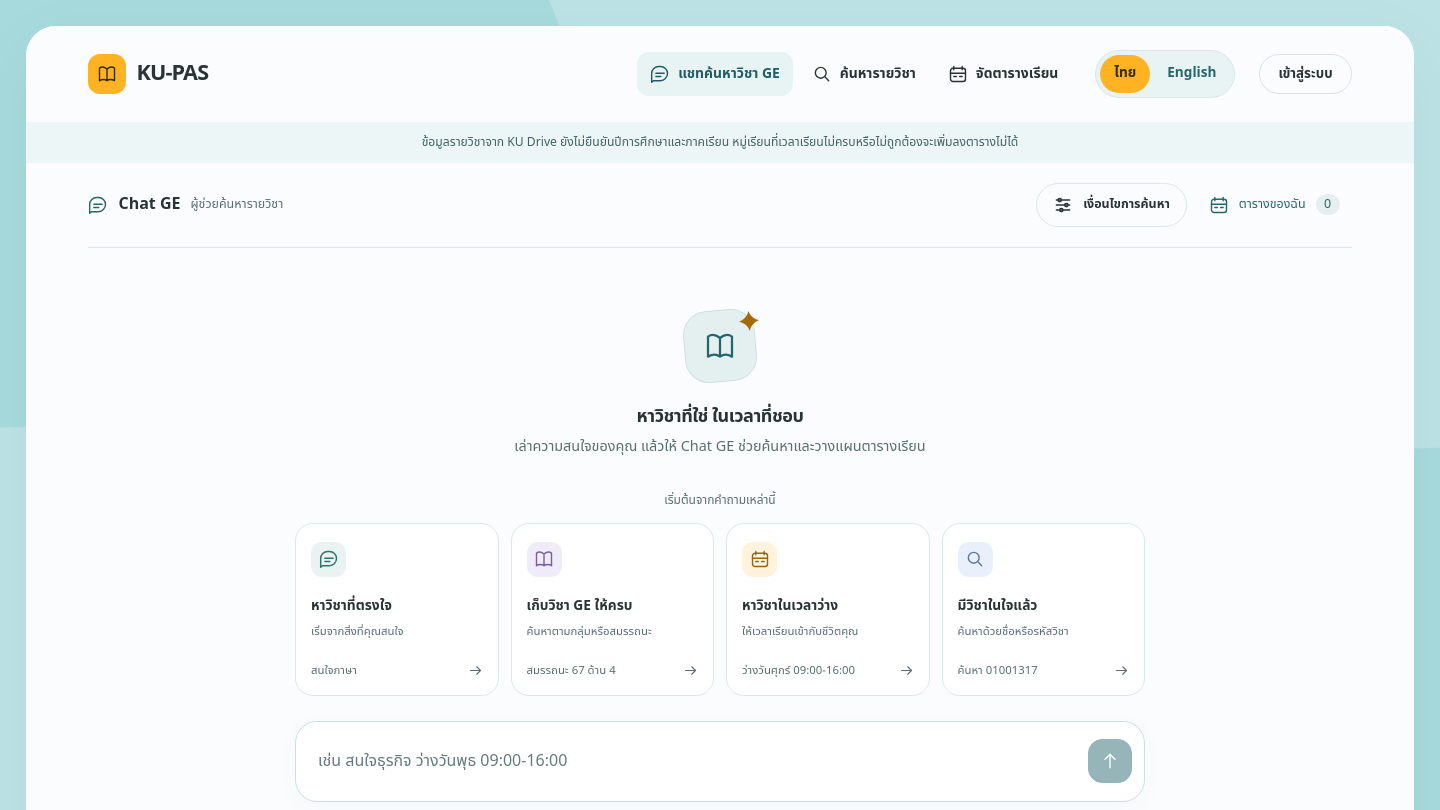
Test case: keeps the chat draft after an API error so the user can retry
Type "สนใจภาษา" into the field named "ถามเรื่องรายวิชา GE" at (694, 761), box [308, 734, 1080, 789]
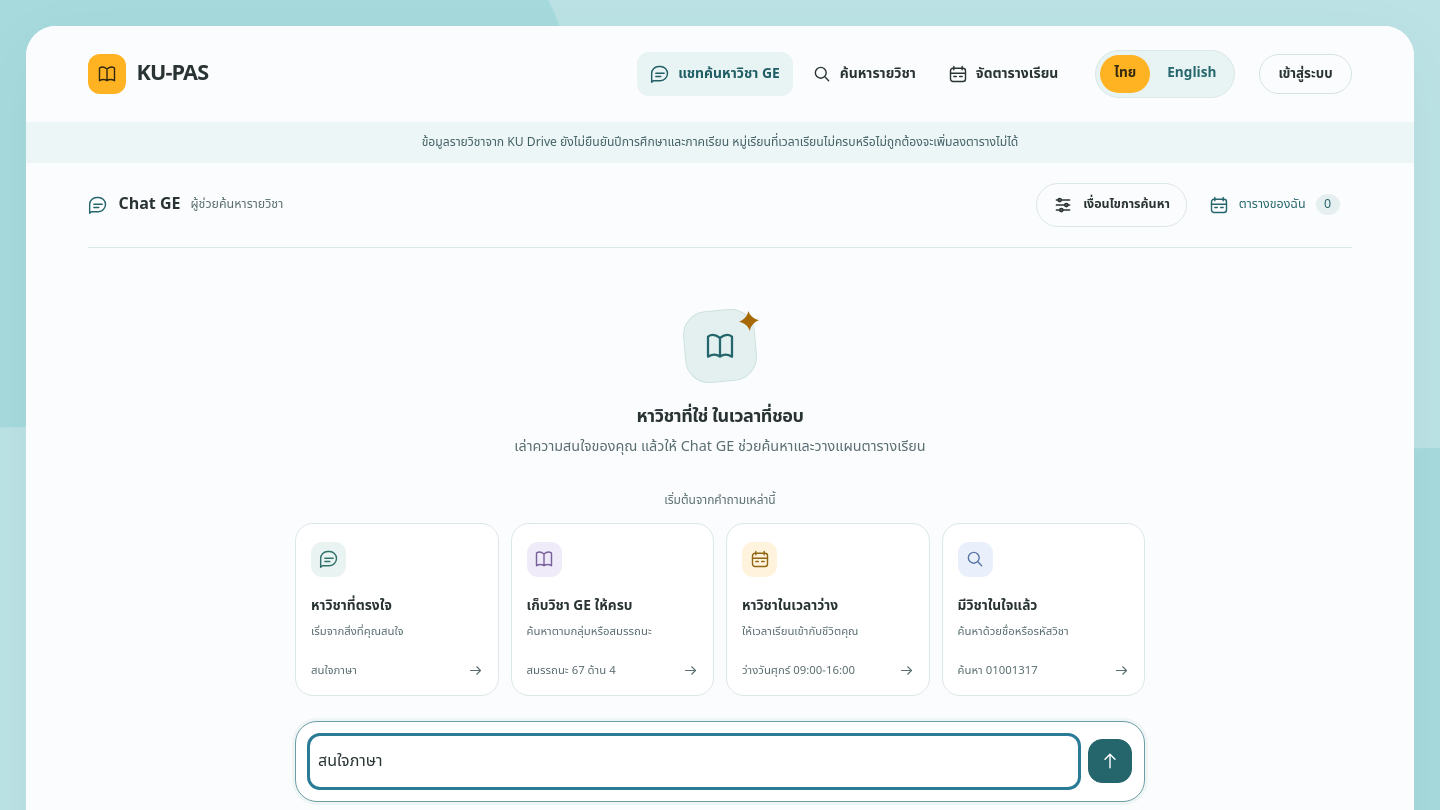
Now the button named "ส่งข้อความ" is enabled
Click the button named "ส่งข้อความ" at (1110, 761), box [1088, 739, 1132, 783]
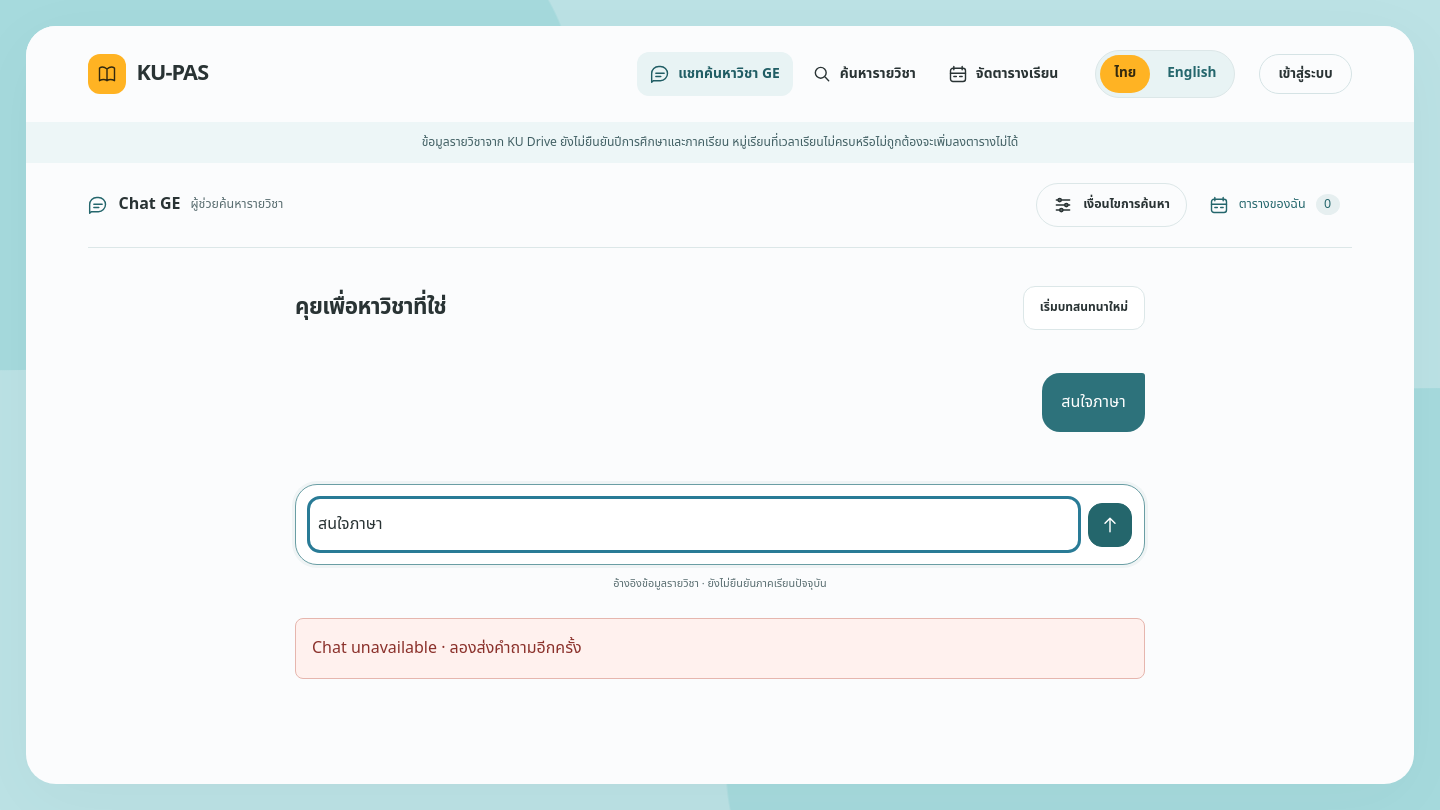
Now the button named "ส่งข้อความ" is enabled
Now the text "Chat unavailable · ลองส่งคำถามอีกครั้ง" is shown, box [295, 618, 1145, 679]
Click the button named "ส่งข้อความ" at (1110, 525), box [1088, 503, 1132, 547]
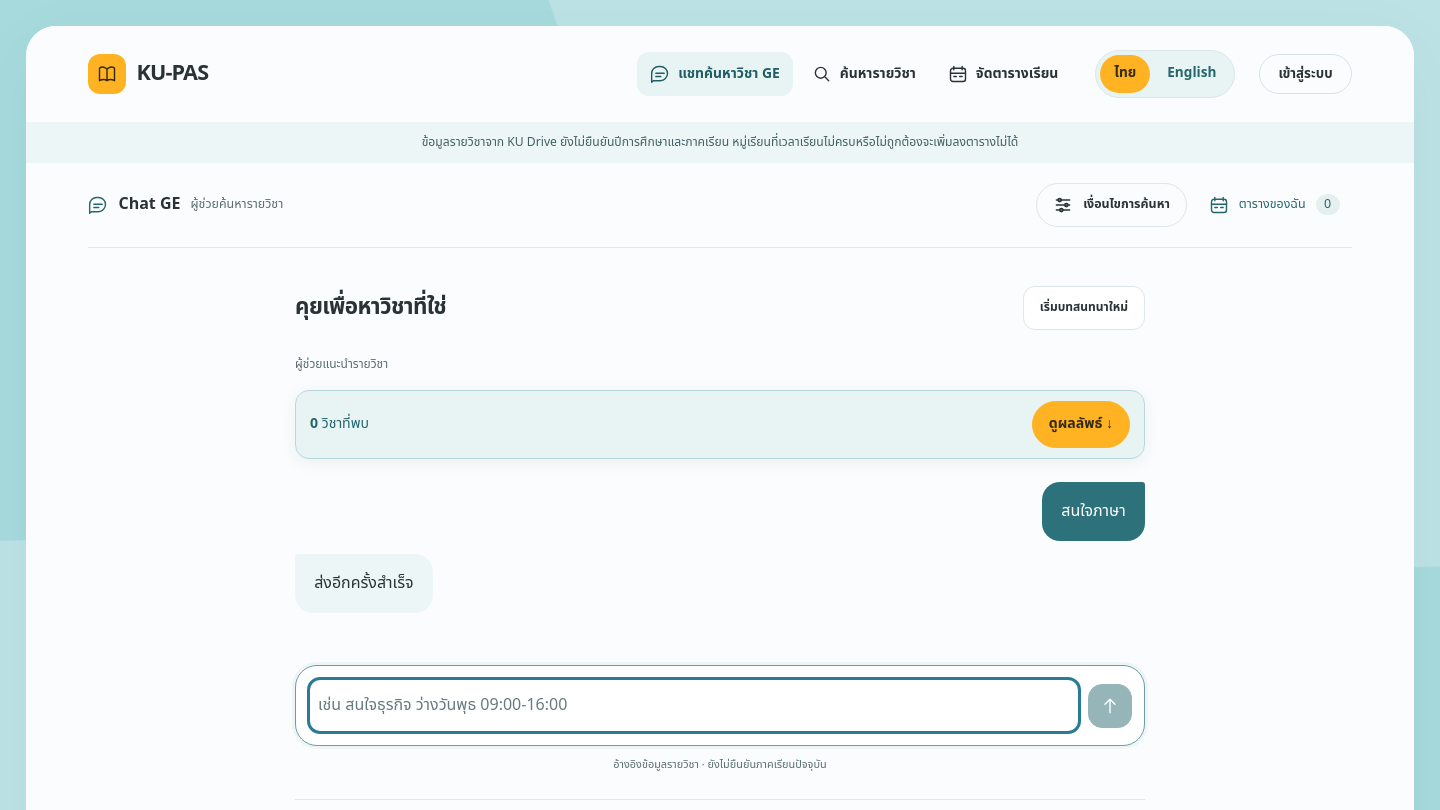
Now the text "ส่งอีกครั้งสำเร็จ" is shown, box [295, 554, 433, 613]
Now the text "สนใจภาษา" is shown once, box [1042, 482, 1145, 541]
